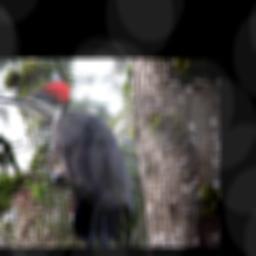Woodpecker: (0, 80, 140, 243)
